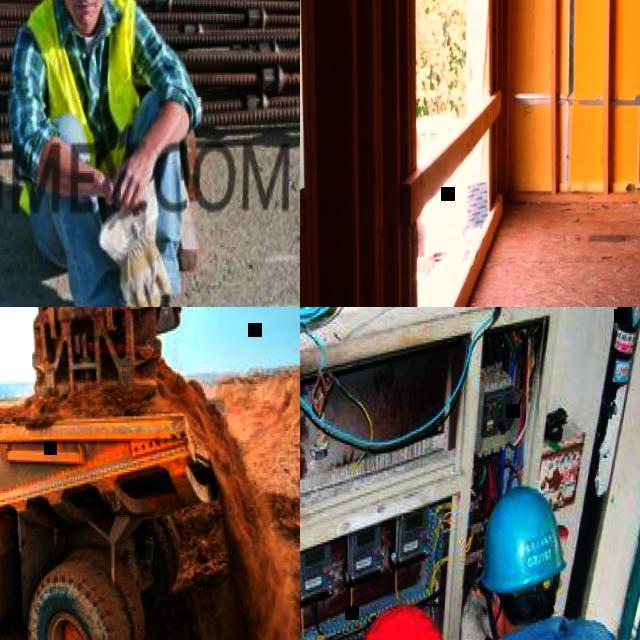Weapon: (0, 0, 262, 295)
objects: (469, 458, 595, 639)
